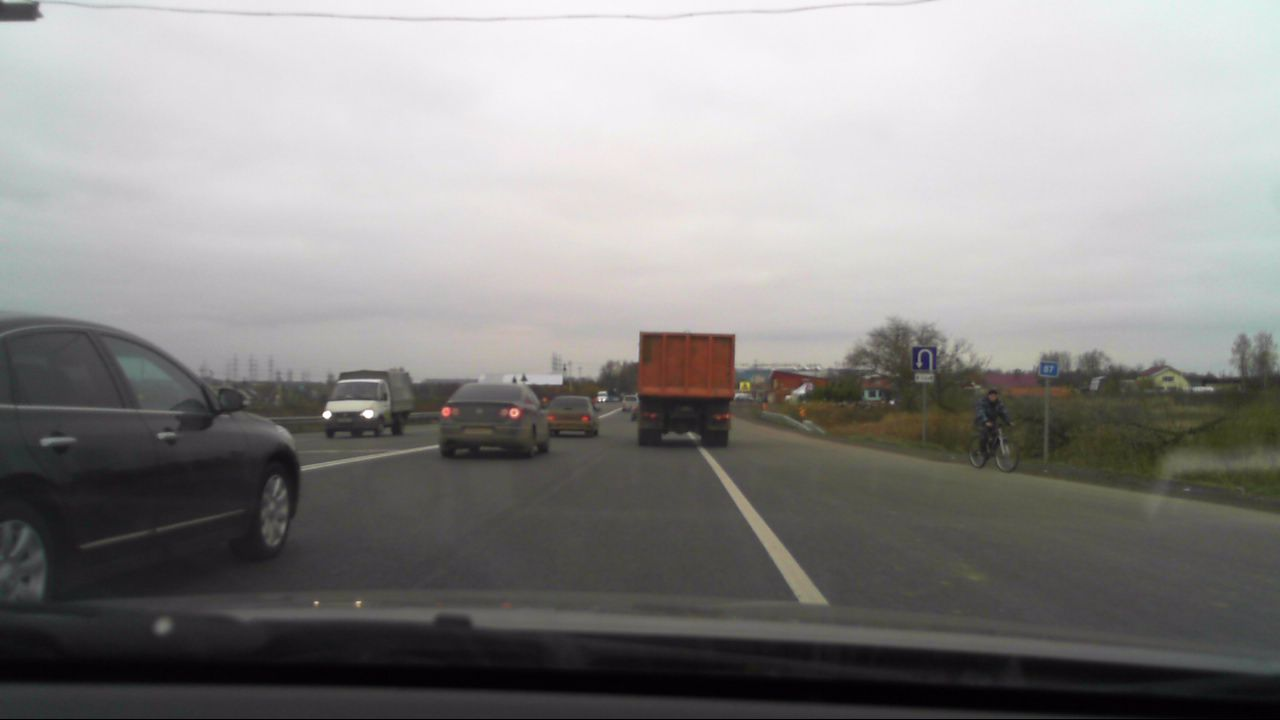U-turn: (912, 347, 936, 371)
